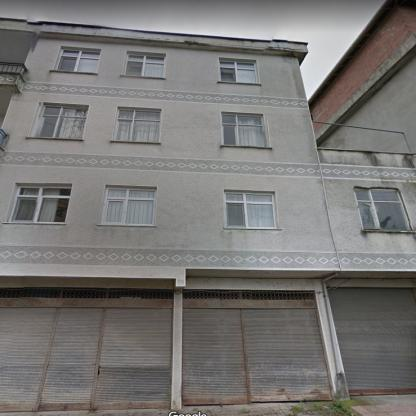window: (10, 186, 72, 224), (355, 188, 411, 230), (34, 104, 88, 139), (103, 188, 155, 224), (224, 192, 275, 228), (114, 106, 161, 142), (223, 114, 266, 146), (56, 49, 100, 73), (124, 53, 164, 76), (219, 60, 258, 83)
